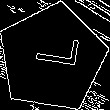L_W: (25, 38, 79, 77)
